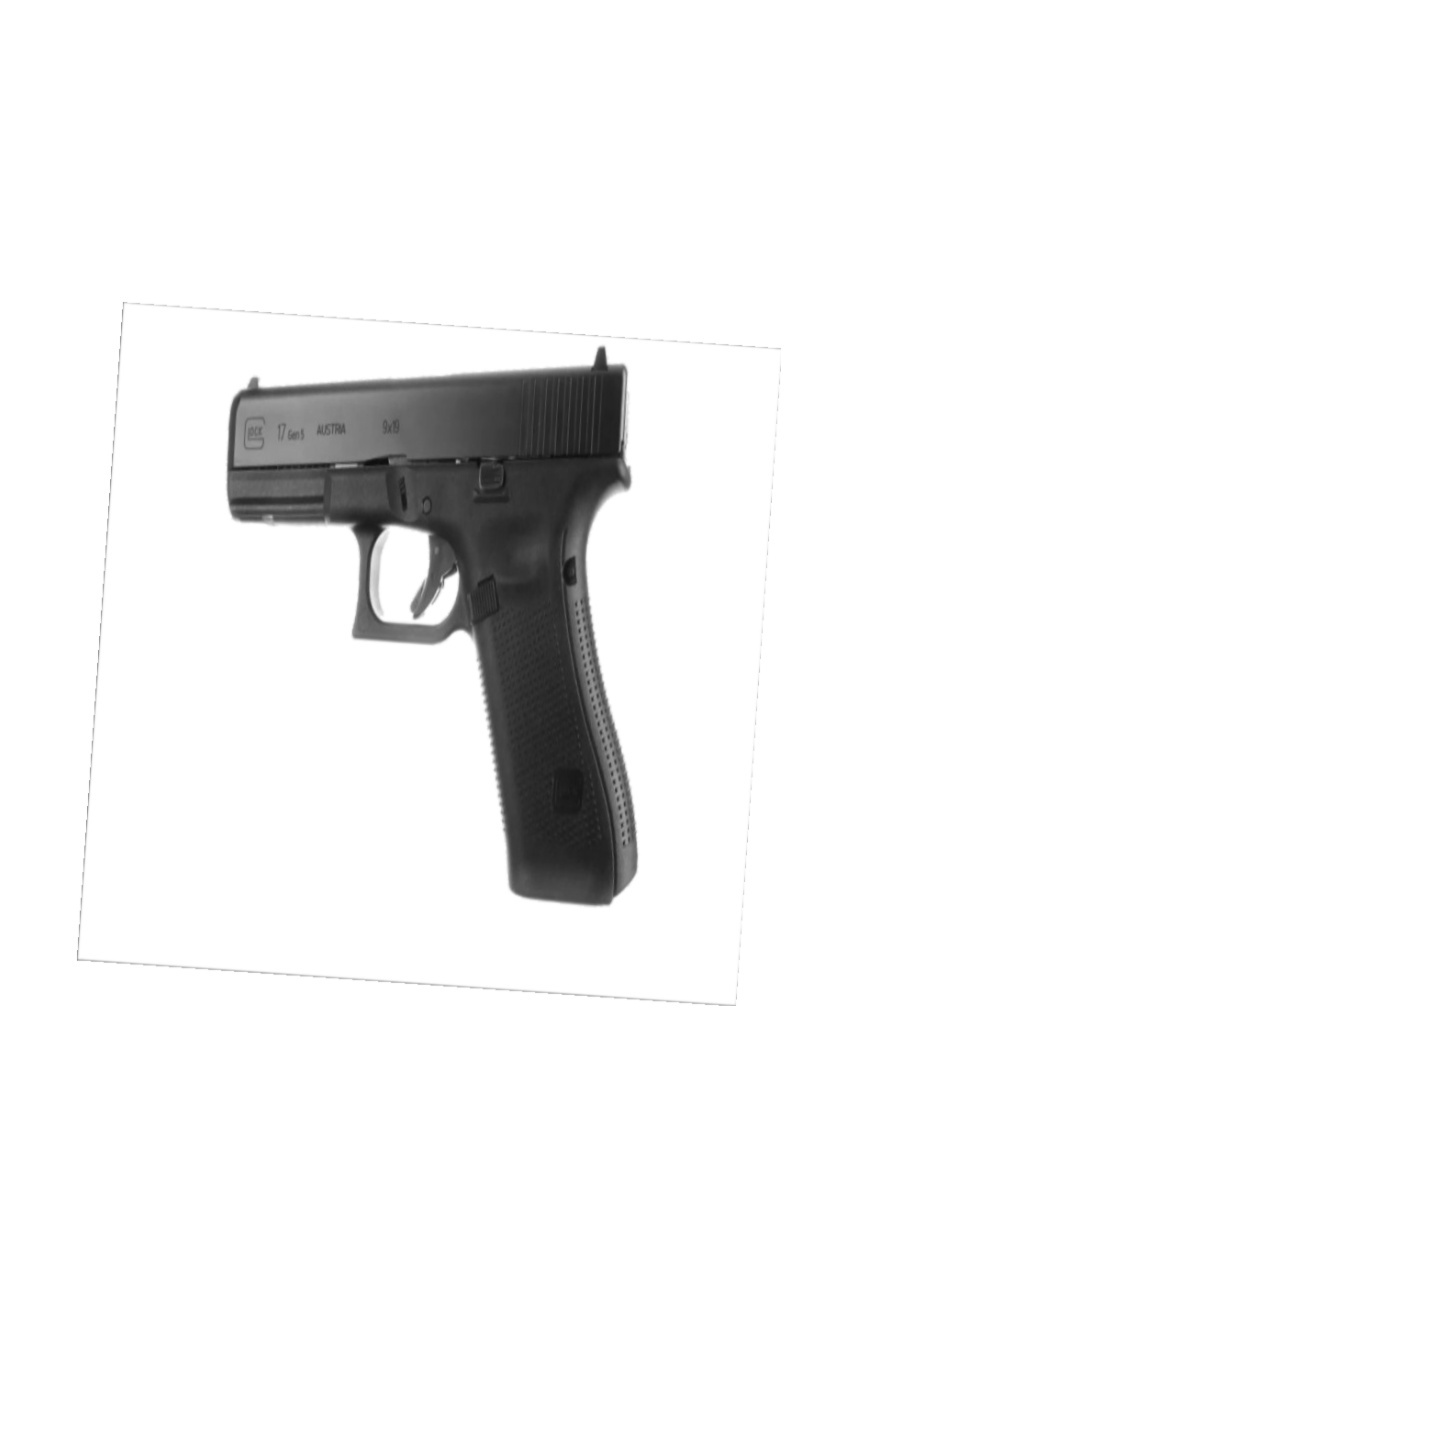gun: (230, 346, 635, 905)
